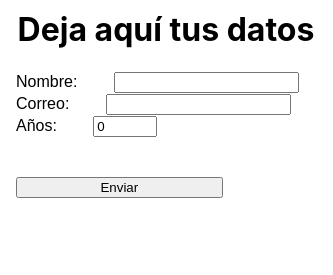
Test case: Form should works › Form should submit correctly
The width and height of the screenshot is (333, 275).
Type "testName" into the field with test id "name-input-test-id".
click(206, 82); type("testName")  # box [114, 72, 299, 93]
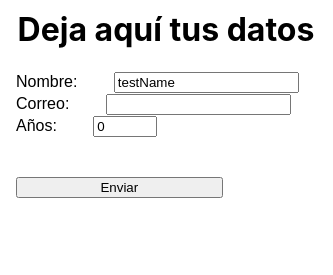
Type "testname@testname.com" into the field with test id "email-input-test-id".
click(198, 104); type("testname@testname.com")  # box [106, 94, 291, 115]
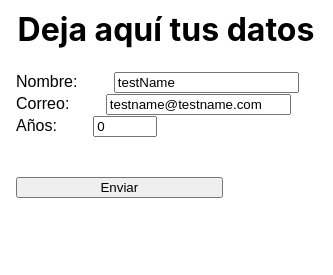
Replace the text in the number field with test id "age-input-test-id" with "24" at (125, 126), box [93, 116, 157, 137]
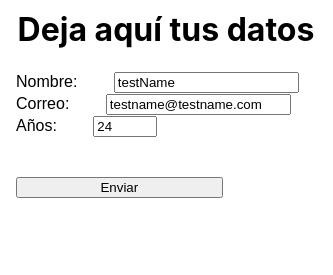
Click the button "Enviar".
click(119, 187)  # box [16, 177, 223, 198]
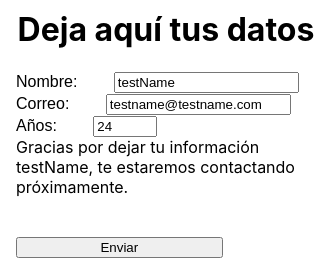
Expected: the text "Gracias por dejar tu información testName, te estaremos contactando próximamente." is shown, [16, 137, 316, 197]
